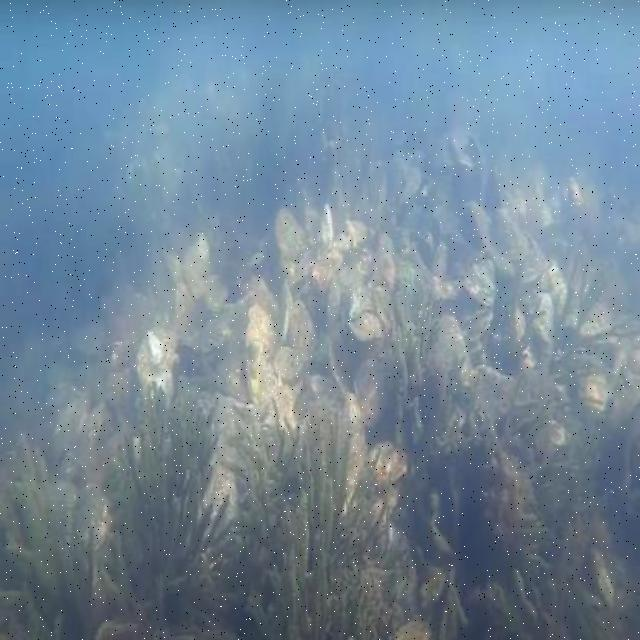Oyster-Closed: (337, 397, 368, 503), (432, 319, 473, 387), (470, 366, 518, 423), (356, 360, 386, 423), (285, 301, 316, 359), (331, 333, 356, 398), (463, 199, 494, 251), (280, 216, 308, 271), (250, 304, 278, 359), (371, 444, 407, 486), (524, 287, 553, 339), (466, 254, 495, 305), (184, 234, 208, 295), (271, 345, 309, 382), (244, 322, 264, 389), (253, 276, 280, 325), (594, 549, 612, 606), (519, 253, 549, 287), (346, 314, 381, 342), (340, 218, 367, 252), (206, 274, 228, 315), (461, 310, 493, 337), (318, 203, 333, 259), (375, 255, 396, 294), (393, 619, 436, 638), (403, 169, 422, 204), (328, 277, 341, 322), (283, 277, 292, 341), (591, 302, 611, 330), (353, 296, 374, 319), (514, 306, 524, 342)
Oyster-Open: (205, 458, 239, 522), (582, 372, 608, 412)
